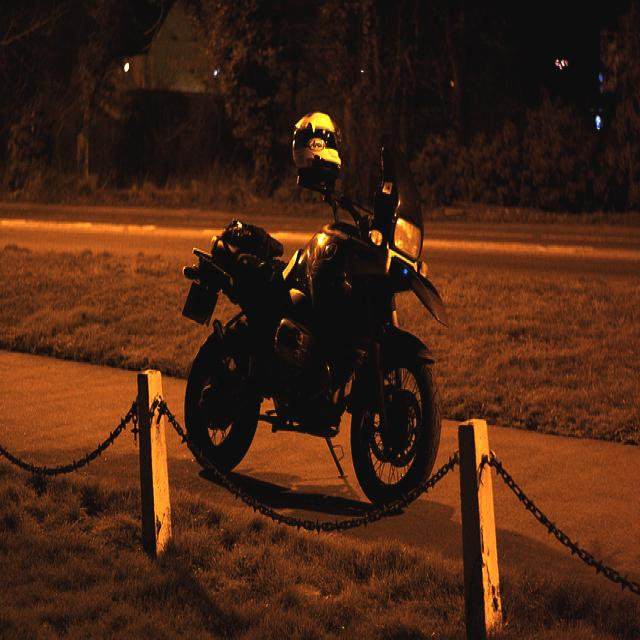Motorbike: (187, 112, 446, 522)
